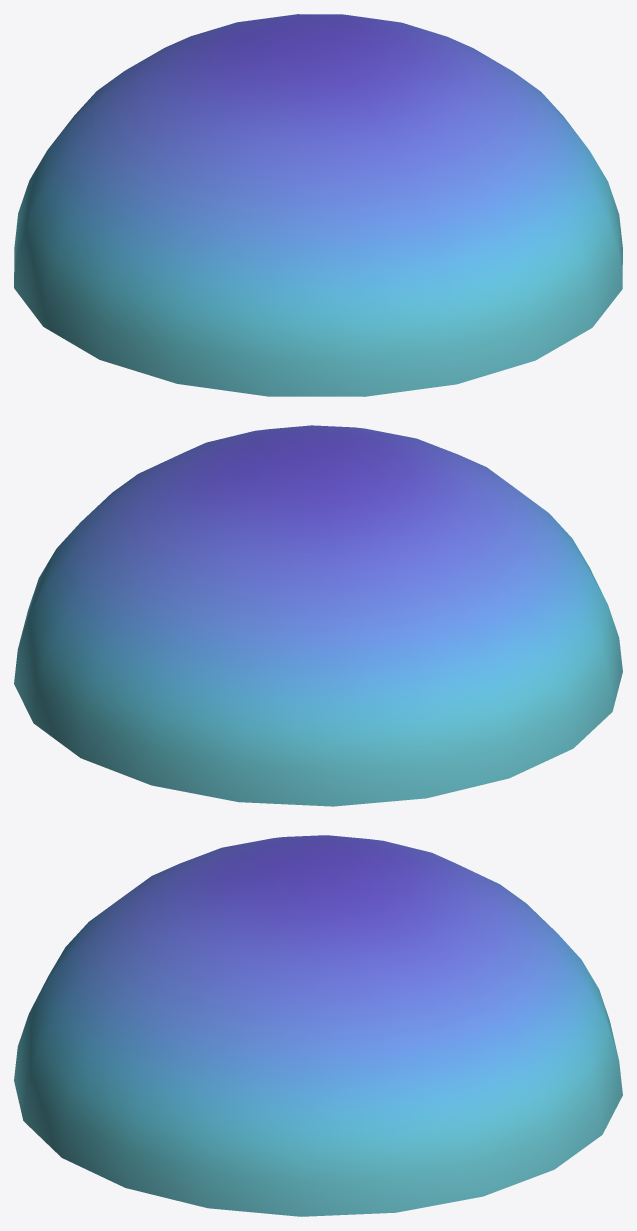
File: summer_land_sky.FBX
The picture shows the model from 3 angles, top to bottom: view 1: azimuth 30°, elevation 25°; view 2: azimuth 150°, elevation 25°; view 3: azimuth 270°, elevation 25°; orthographic projection.
Parts seen in each view (by area): view 1: videobooth_sky; view 2: videobooth_sky; view 3: videobooth_sky.
Boxes of the visible parts, x1,y1,x2,y2 form: videobooth_sky: (14, 14, 622, 396); videobooth_sky: (14, 425, 622, 806); videobooth_sky: (14, 835, 622, 1216).
Size of the model in its own units: 196 by 77.39 by 196.
